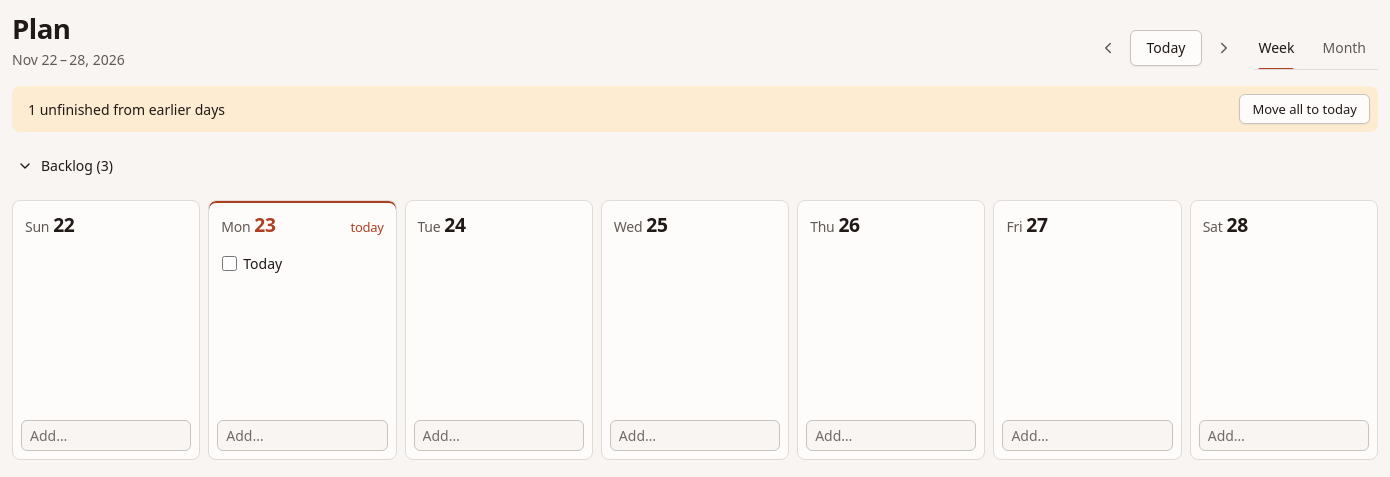
Test case: PlannerPage week view › offers to move unfinished items of earlier days to today
expect the text "1 unfinished from earlier days" is shown: met, box [28,99,225,120]
What coordinates should you click on to do the following:
click the button "Move all to today"
I would click on:
 (1305, 109)
Its box is [1240,94,1370,124].
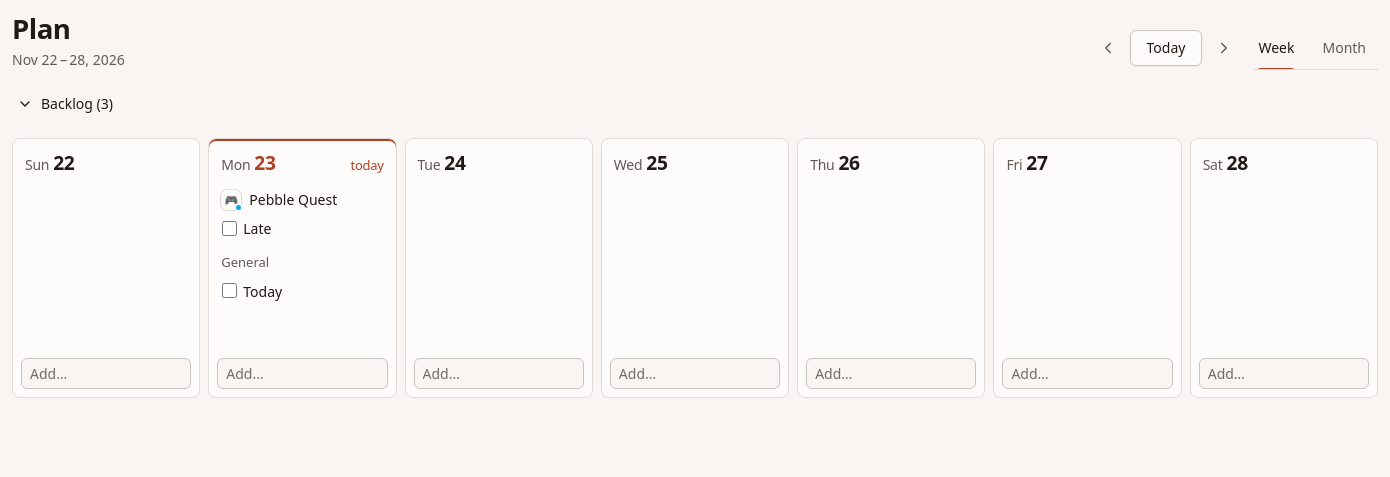
expect the text "unfinished from earlier days" is gone: met
